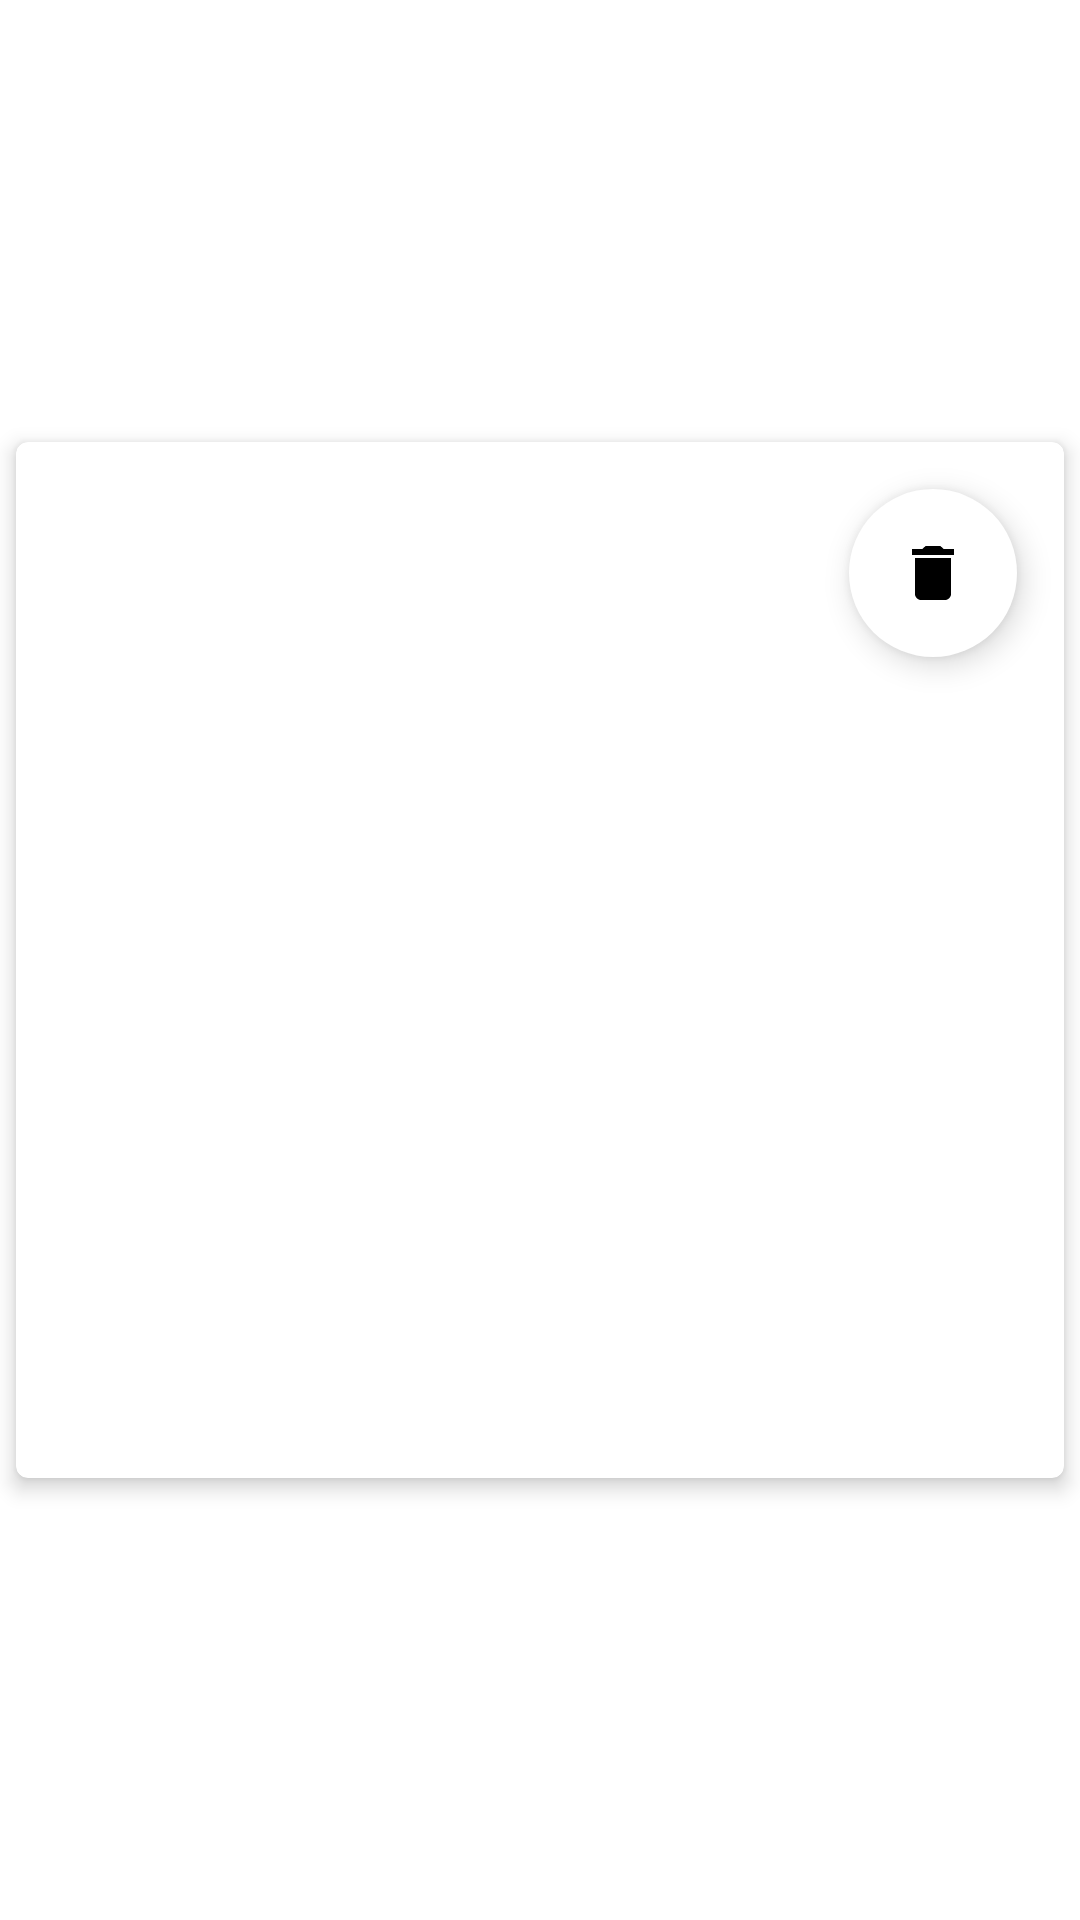

Icons on this 1080 x 1920 Android screen, each with the point to tap as [x,y]:
delete: [948,599]
